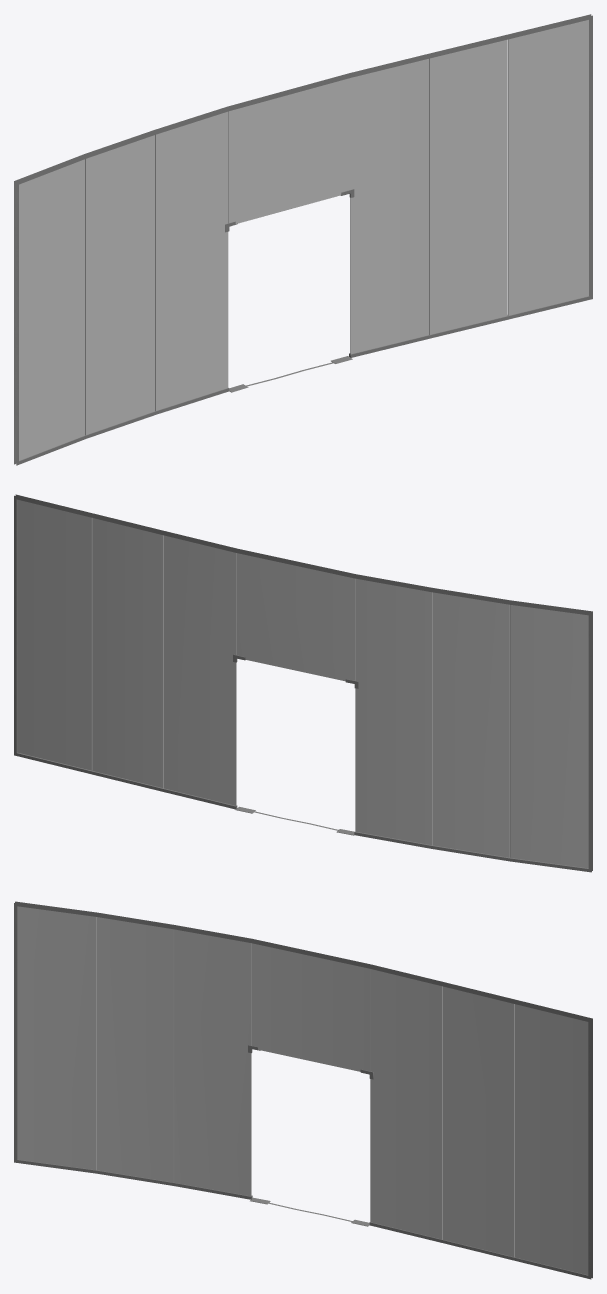
Rendered from SM_StoreFront_Atrium_03.fbx.
The picture shows the model from 3 angles, top to bottom: view 1: azimuth 30°, elevation 25°; view 2: azimuth 150°, elevation 25°; view 3: azimuth 330°, elevation 25°; orthographic projection. The views are drawn at different scales.
Visible parts, largest first — view 1: SM_StoreFront_Atrium_03_LOD0; view 2: SM_StoreFront_Atrium_03_LOD0; view 3: SM_StoreFront_Atrium_03_LOD0.
Boxes of the visible parts, x1=… form: SM_StoreFront_Atrium_03_LOD0: x1=14, y1=14, x2=592, y2=465; SM_StoreFront_Atrium_03_LOD0: x1=14, y1=494, x2=592, y2=872; SM_StoreFront_Atrium_03_LOD0: x1=14, y1=901, x2=592, y2=1279.
Bounding box in the file's own units: 959 × 80.62 × 430.
